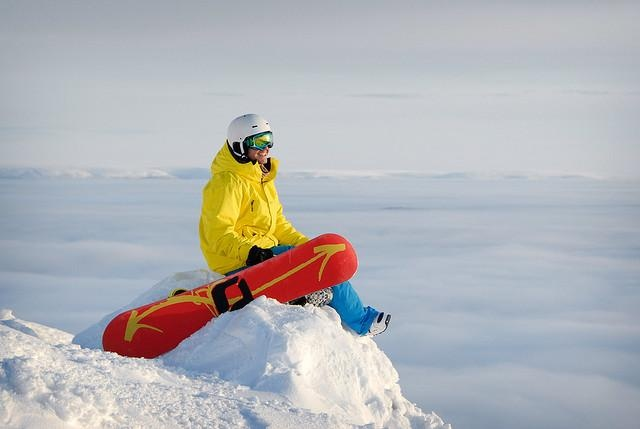person: (198, 109, 398, 337)
